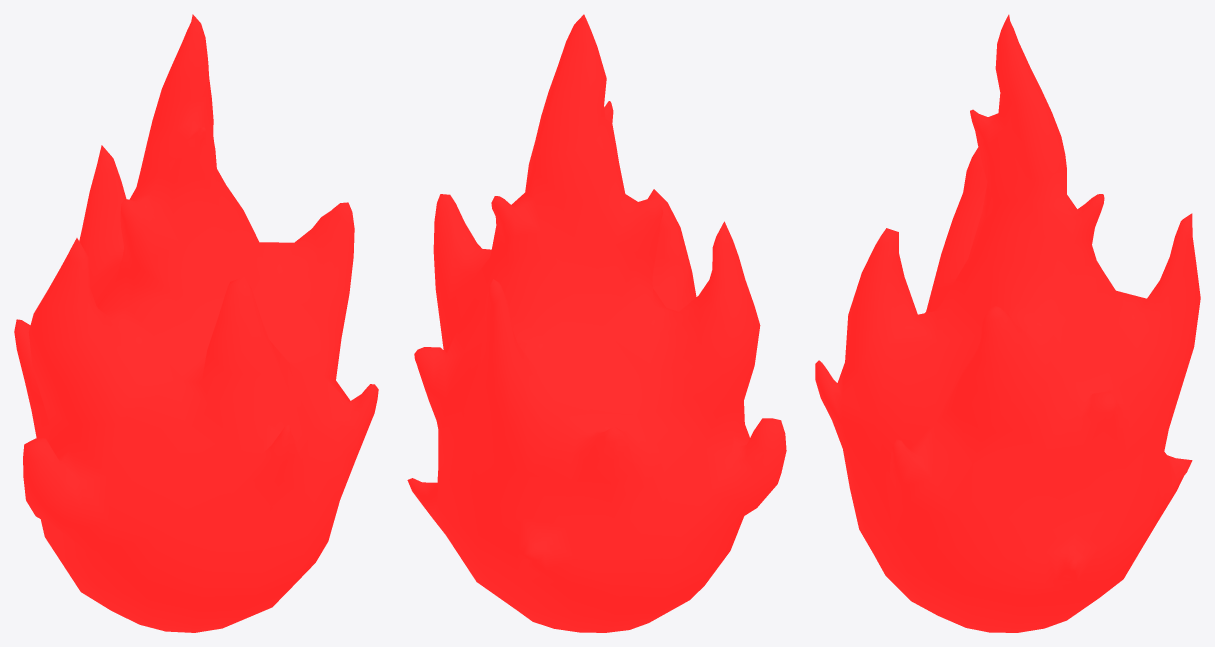
Rendered from Character_fire.fbx.
3 views of the same model, side by side, from view 1: azimuth 30°, elevation 25°; view 2: azimuth 150°, elevation 25°; view 3: azimuth 270°, elevation 25° (orthographic).
Parts seen in each view (by area): view 1: Character_fire; view 2: Character_fire; view 3: Character_fire.
Boxes of the visible parts, x1,y1,x2,y2 form: Character_fire: (14,14,378,632); Character_fire: (407,14,786,632); Character_fire: (815,14,1200,632).
Size of the model in its own units: 25.63 by 43.64 by 25.07.
